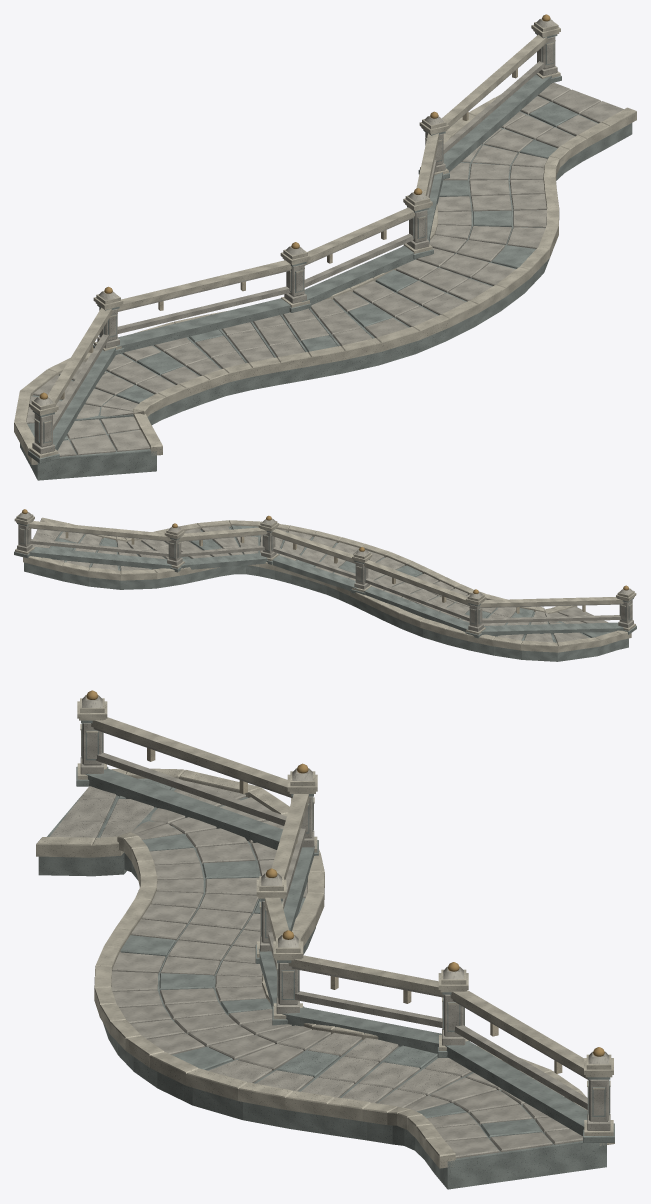
3 views of the same model, one above another, from view 1: azimuth 30°, elevation 25°; view 2: azimuth 150°, elevation 25°; view 3: azimuth 270°, elevation 25° (orthographic). The views are drawn at different scales.
Parts seen in each view (by area): view 1: C21_stone, C21_cool, C21_light; view 2: C21_cool, C21_stone, C21_light, C21_relief; view 3: C21_stone, C21_cool, C21_light.
Boxes of the visible parts, left/top/right/bottom form: C21_stone: left=26, top=18, right=623, bottom=456; C21_cool: left=20, top=32, right=632, bottom=480; C21_light: left=14, top=22, right=636, bottom=464; C21_cool: left=14, top=521, right=636, bottom=661; C21_stone: left=17, top=512, right=633, bottom=642; C21_light: left=14, top=514, right=636, bottom=652; C21_relief: left=65, top=532, right=585, bottom=613; C21_stone: left=50, top=695, right=610, bottom=1158; C21_cool: left=38, top=720, right=614, bottom=1189; C21_light: left=36, top=698, right=614, bottom=1168.
Size of the model in its own units: 13.67 by 2.95 by 6.79.
Materials: 5 (4 with a texture image).
